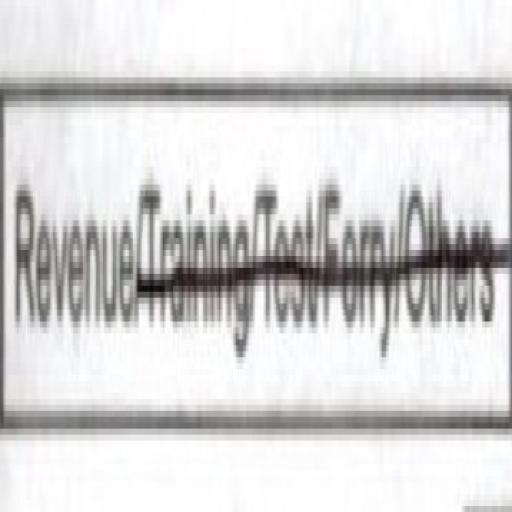check: (1, 44, 137, 451)
